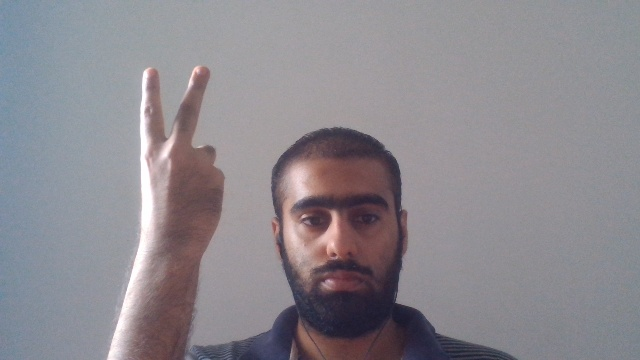scissors: (134, 64, 225, 258)
